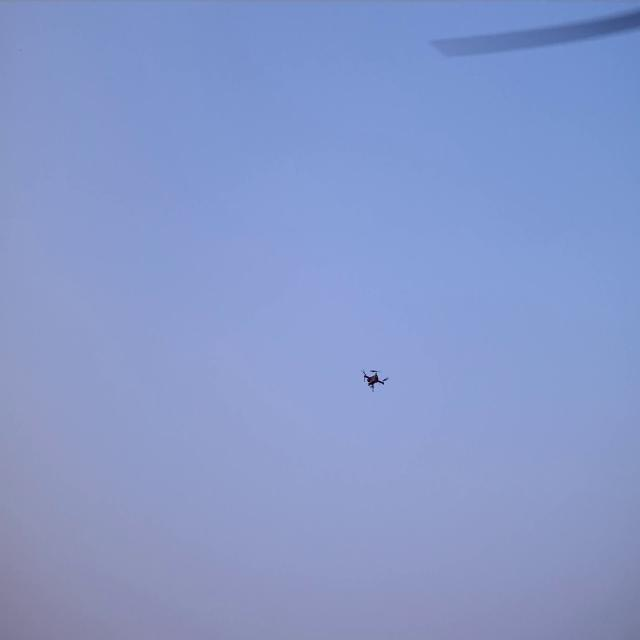UAV: (364, 371, 386, 392)
